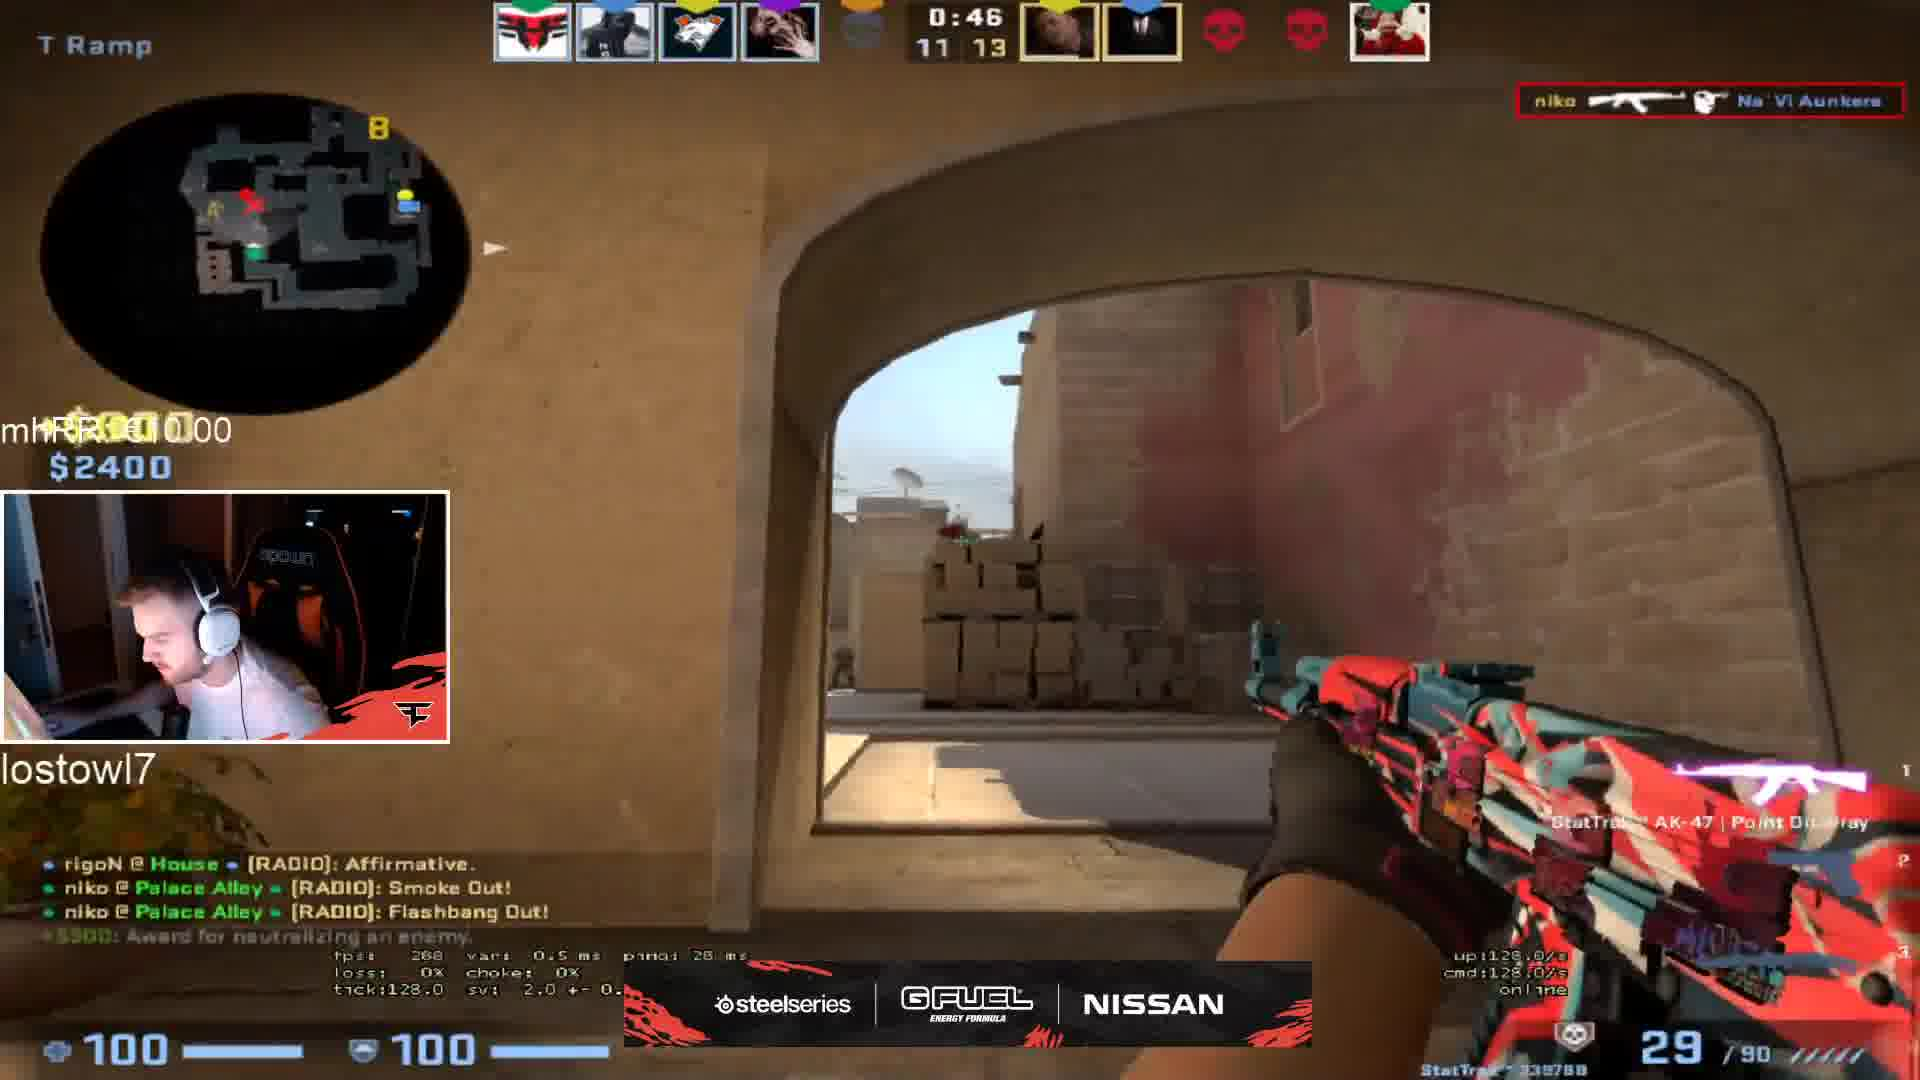enemy: (828, 637, 858, 696)
